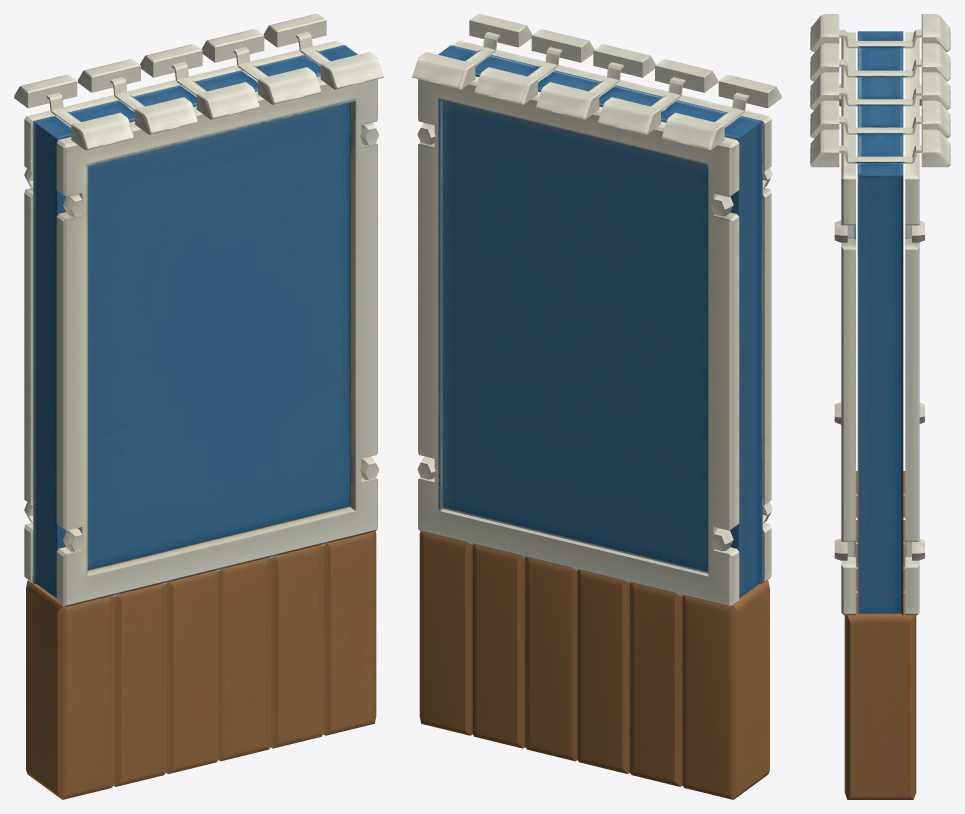
The model's file is wl_fuel_billboard.glb.
3 views of the same model, side by side, from view 1: azimuth 30°, elevation 25°; view 2: azimuth 150°, elevation 25°; view 3: azimuth 270°, elevation 25° (orthographic). The views are drawn at different scales.
Parts seen in each view (by area): view 1: wl_fuel_billboard; view 2: wl_fuel_billboard; view 3: wl_fuel_billboard.
Part boxes in pixels (x1,y1,x2,y2): wl_fuel_billboard: (14, 14, 383, 799); wl_fuel_billboard: (412, 14, 781, 799); wl_fuel_billboard: (810, 14, 950, 799).
Bounding box in the file's own units: 2.95 × 6 × 1.19.
Materials: 1 (1 with a texture image).
